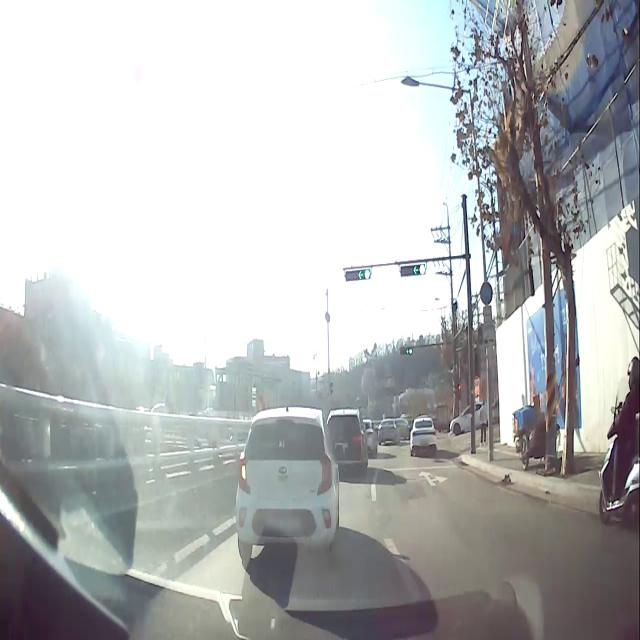Green Light: (419, 264, 426, 276), (364, 270, 370, 280), (408, 348, 412, 355)
